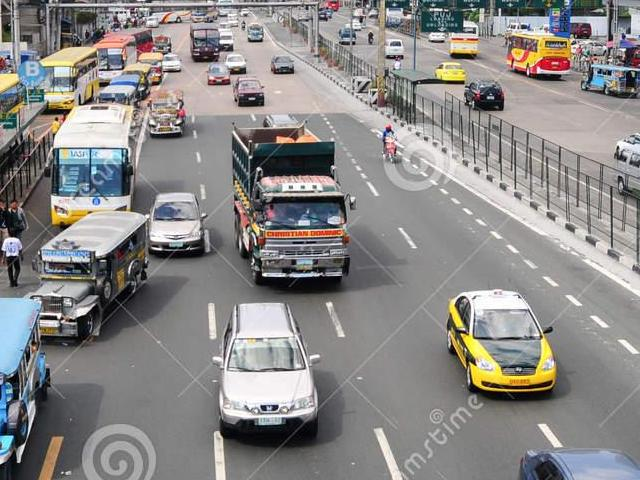bus: (48, 100, 141, 226), (502, 22, 578, 93), (24, 50, 105, 105), (91, 34, 134, 82)
car: (208, 300, 325, 433), (443, 285, 560, 405), (138, 185, 210, 260), (452, 75, 510, 110), (152, 86, 188, 136), (621, 139, 640, 204), (433, 57, 473, 85), (233, 73, 265, 108), (613, 124, 640, 159), (378, 36, 410, 61), (267, 56, 300, 78), (207, 65, 233, 85), (247, 18, 262, 46)
truck: (227, 118, 357, 286), (23, 208, 152, 348), (0, 294, 53, 480), (185, 18, 222, 61)
